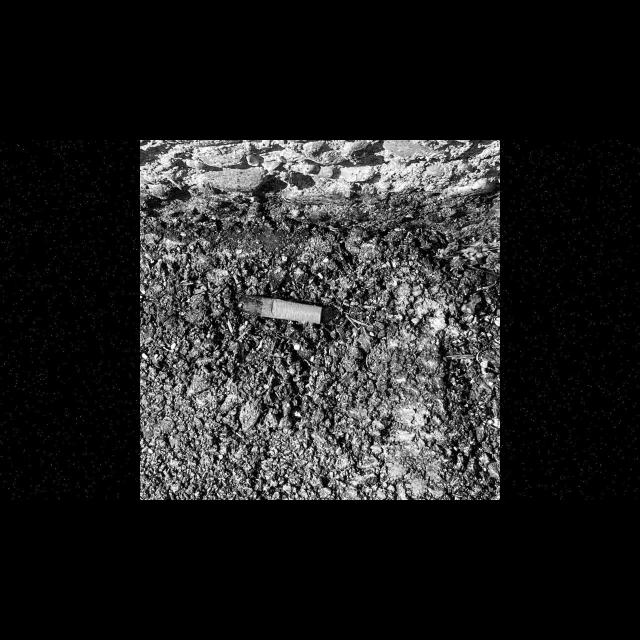cigarette: (236, 294, 323, 324)
